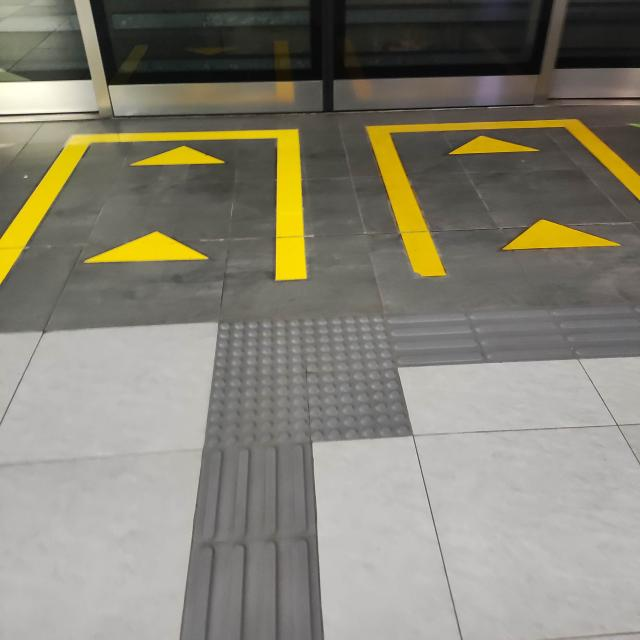kanan: (171, 299, 571, 460)
